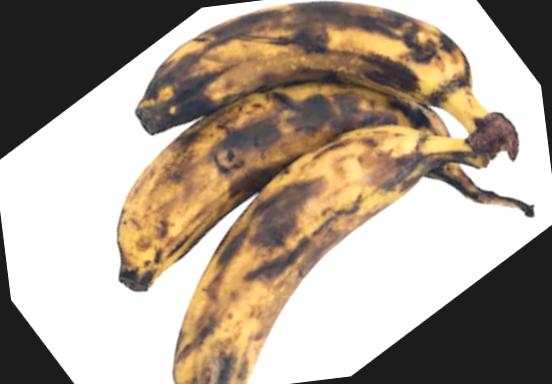Banana Overripe: (64, 0, 552, 384)
